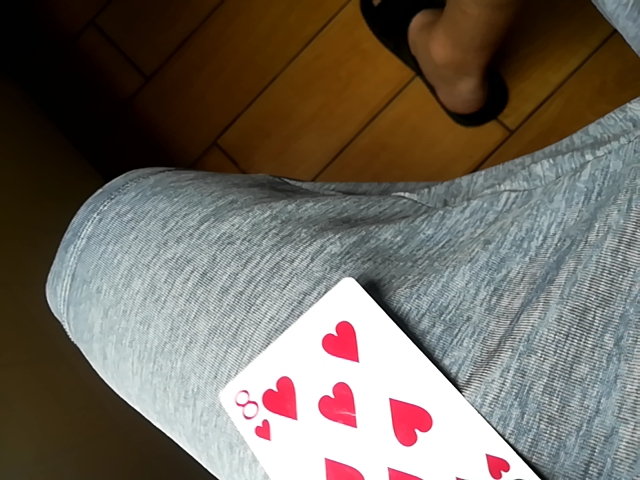hx 8: (223, 279, 527, 479)
